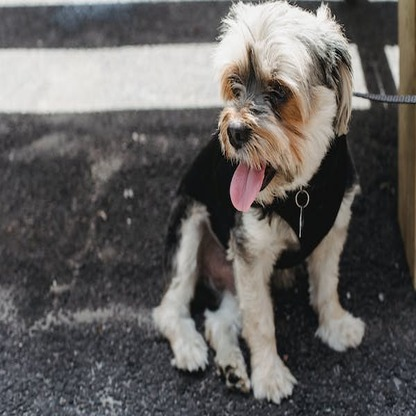yorkshire: (150, 2, 367, 405)
